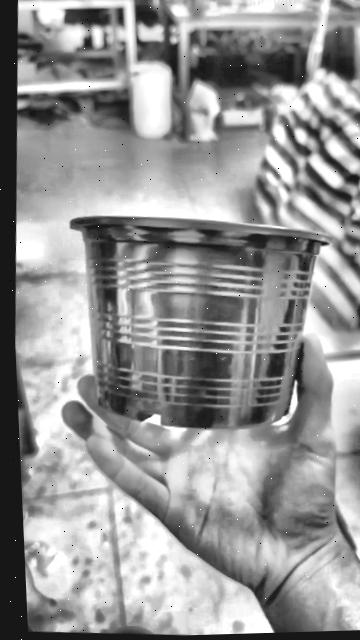pot: (70, 215, 330, 427)
